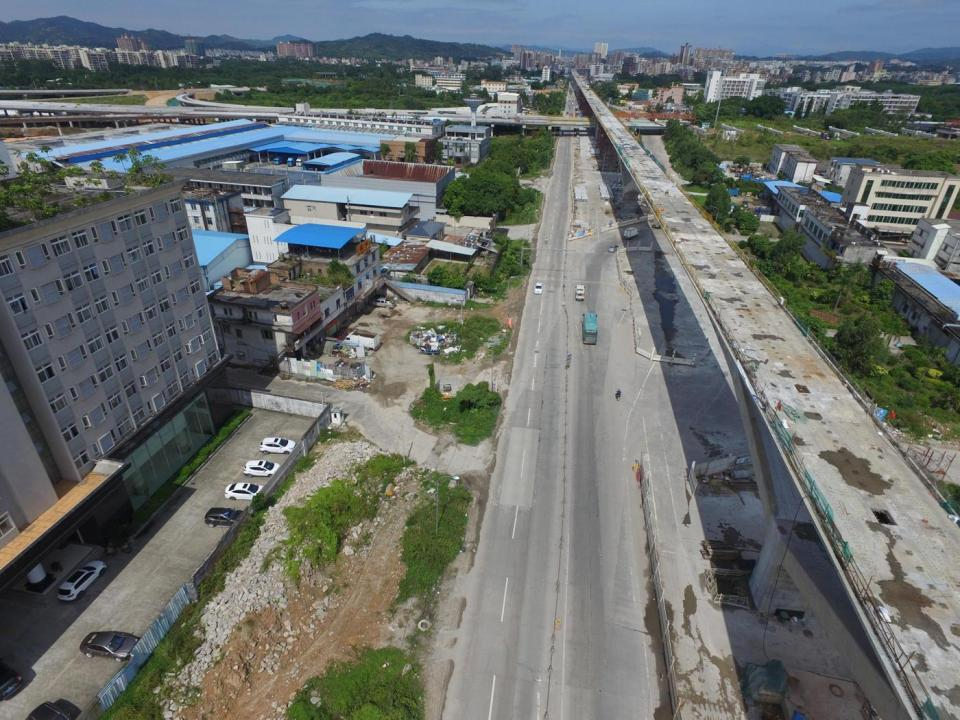bus: (582, 312, 597, 344)
car: (56, 560, 107, 602), (80, 630, 141, 662), (206, 508, 246, 527), (226, 483, 264, 502), (240, 459, 280, 477), (261, 437, 298, 454), (371, 298, 396, 308), (534, 283, 543, 294), (607, 245, 620, 252), (742, 201, 748, 207)
truck: (330, 329, 379, 351), (652, 212, 670, 228), (754, 206, 776, 216), (419, 345, 440, 355), (624, 227, 640, 239), (575, 285, 585, 301), (725, 187, 738, 198)
